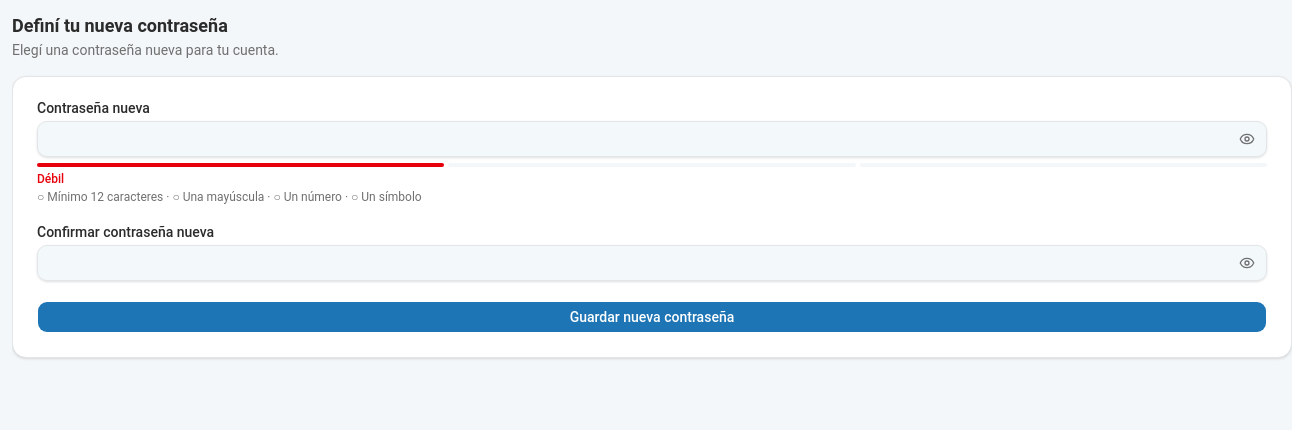
Test: RecuperarPasswordNueva › una contraseña que no cumple la política del backend muestra error inline, sin navegar
The width and height of the screenshot is (1292, 430).
Type "nuevaClave123" into the password field labelled "Contraseña nueva" at (652, 139), box [37,121,1267,157]
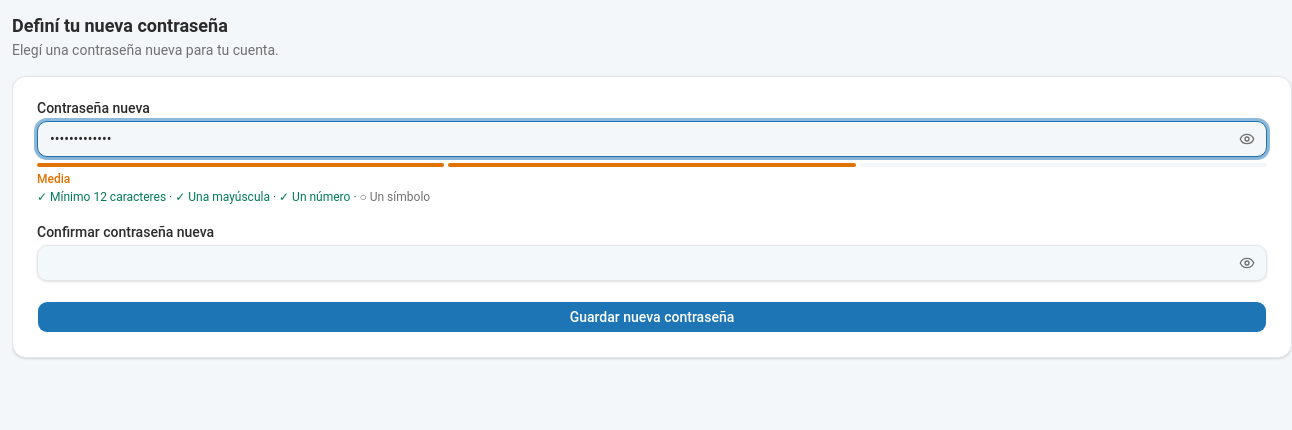
Type "nuevaClave123" into the password field labelled "Confirmar contraseña nueva" at (652, 263), box [37,245,1267,281]
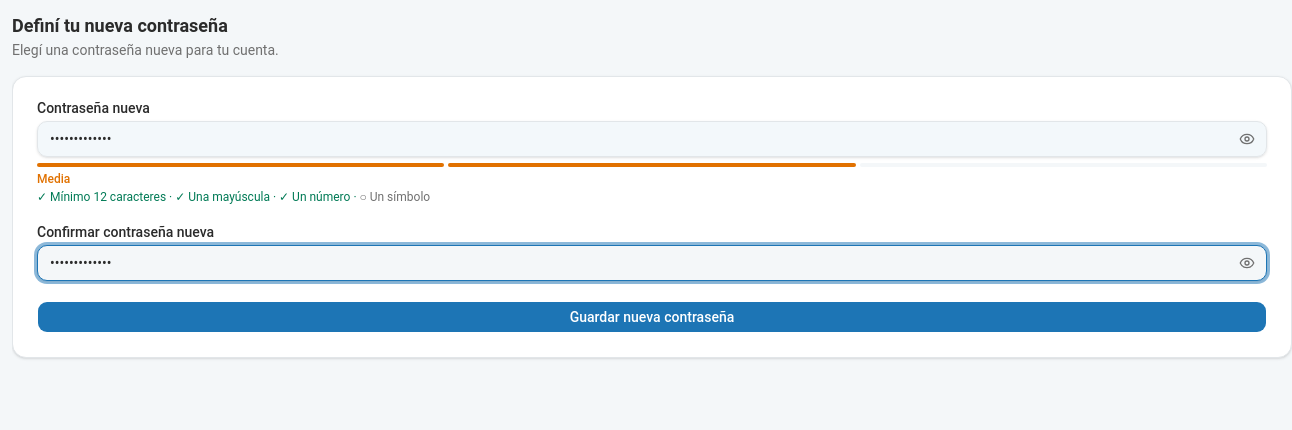
Click the button "Guardar nueva contraseña" at (652, 317), box [37,301,1267,333]
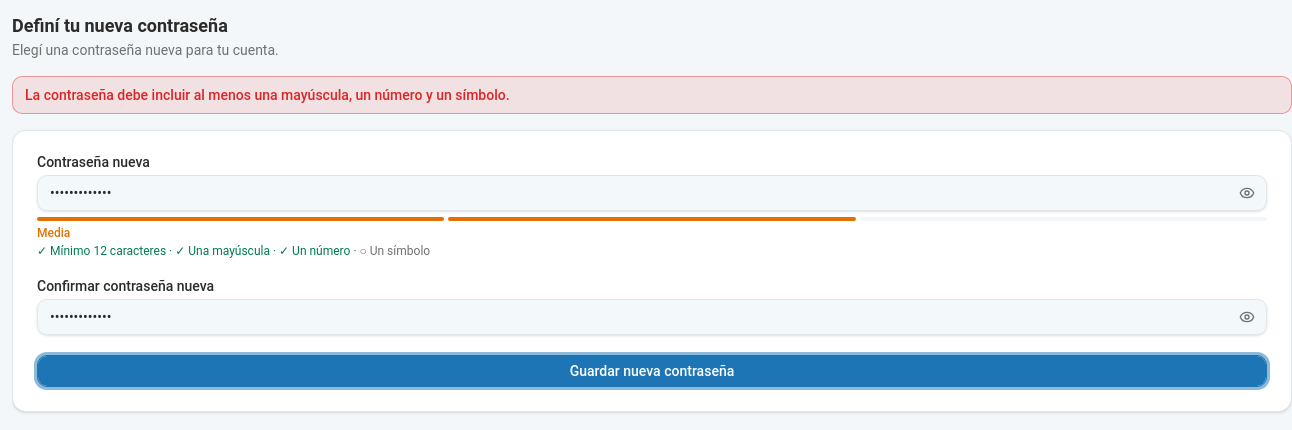
Expected: the button "Guardar nueva contraseña" is shown, [37,355,1267,387]
Result: the message shows "mayúscula, un número y un símbolo" at [25,87,510,103]
